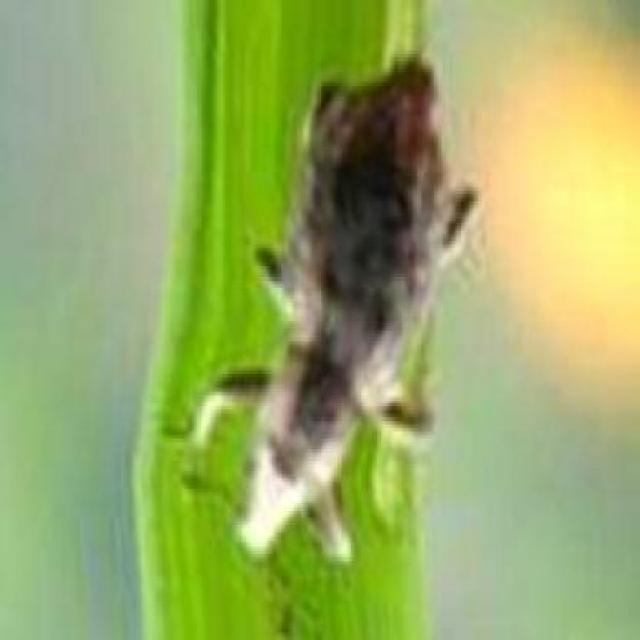rice-bug: (218, 54, 488, 571)
